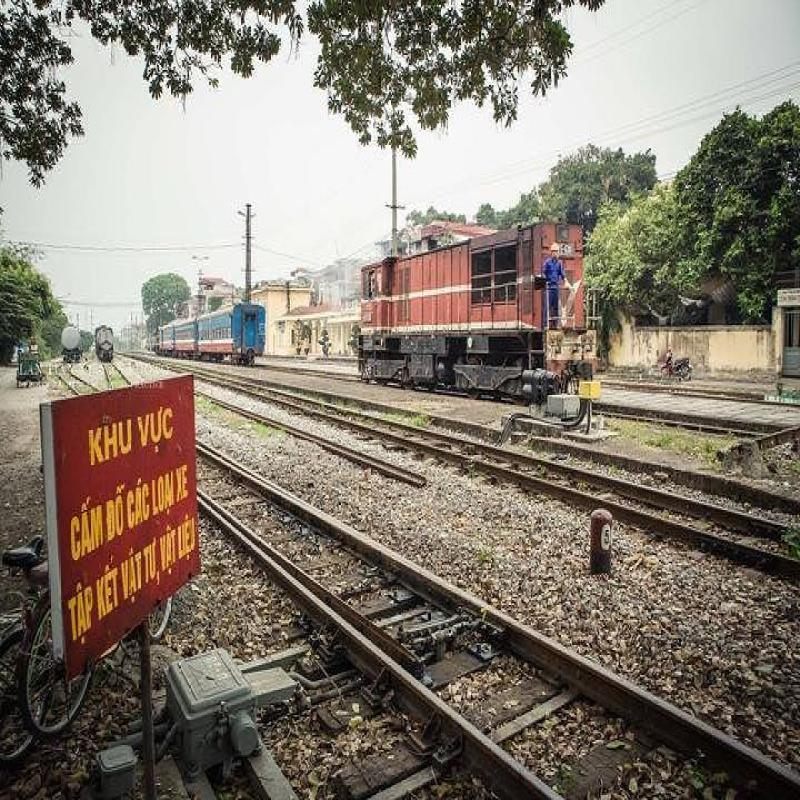train: (347, 241, 526, 391), (157, 308, 283, 369)
